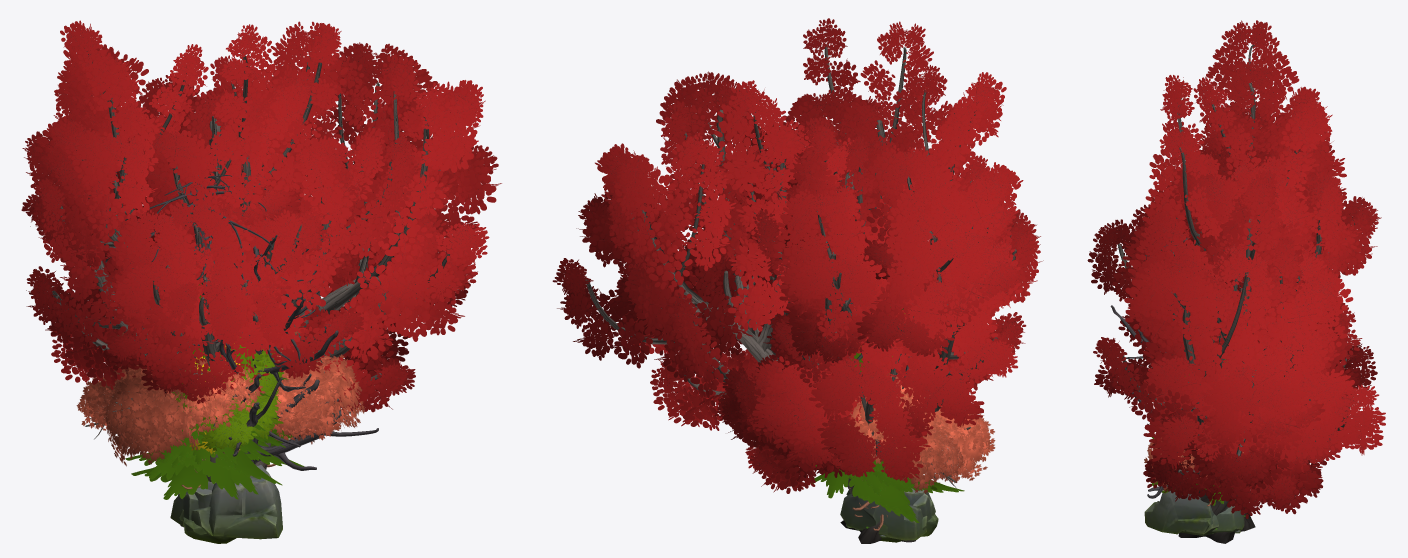
Rendered from nature.glb.
3 views of the same model, side by side, from view 1: azimuth 30°, elevation 25°; view 2: azimuth 150°, elevation 25°; view 3: azimuth 270°, elevation 25° (orthographic). The views are drawn at different scales.
Visible parts, largest first — view 1: TwistedTree_2, TwistedTree_1, TwistedTree_3, MapleTree_3, MapleTree_2, Rock_Medium_3, Pine_2, DeadTree_2, MapleTree_1, Rock_Medium_1, Pine_5, CommonTree_2 (+5 smaller); view 2: TwistedTree_1, TwistedTree_2, TwistedTree_3, MapleTree_3, Rock_Medium_2, MapleTree_2, Pine_5, Pine_2; view 3: TwistedTree_1, TwistedTree_2, TwistedTree_3, Rock_Medium_3, Rock_Medium_2.
Part boxes in pixels (box(x1,y1,x2,y2)): TwistedTree_2: box(21, 20, 341, 481); TwistedTree_1: box(179, 21, 501, 527); TwistedTree_3: box(50, 55, 421, 403); MapleTree_3: box(104, 326, 364, 466); MapleTree_2: box(76, 355, 279, 439); Rock_Medium_3: box(183, 465, 282, 543); Pine_2: box(131, 429, 289, 499); DeadTree_2: box(180, 219, 378, 470); MapleTree_1: box(171, 359, 350, 440); Rock_Medium_1: box(179, 483, 246, 536); Pine_5: box(125, 428, 304, 494); CommonTree_2: box(172, 345, 280, 453); TwistedTree_1: box(552, 71, 915, 543); TwistedTree_2: box(753, 18, 1043, 438); TwistedTree_3: box(714, 89, 1040, 493); MapleTree_3: box(847, 374, 995, 483); Rock_Medium_2: box(840, 488, 927, 540); MapleTree_2: box(881, 421, 963, 493); Pine_5: box(815, 353, 954, 515); Pine_2: box(810, 471, 964, 522); TwistedTree_1: box(1093, 170, 1385, 543); TwistedTree_2: box(1124, 20, 1348, 373); TwistedTree_3: box(1087, 145, 1381, 509); Rock_Medium_3: box(1144, 491, 1213, 534); Rock_Medium_2: box(1212, 506, 1244, 532).
Bounding box in the file's own units: 17.96 × 19.08 × 11.71.
Materials: 18 (18 with a texture image).
